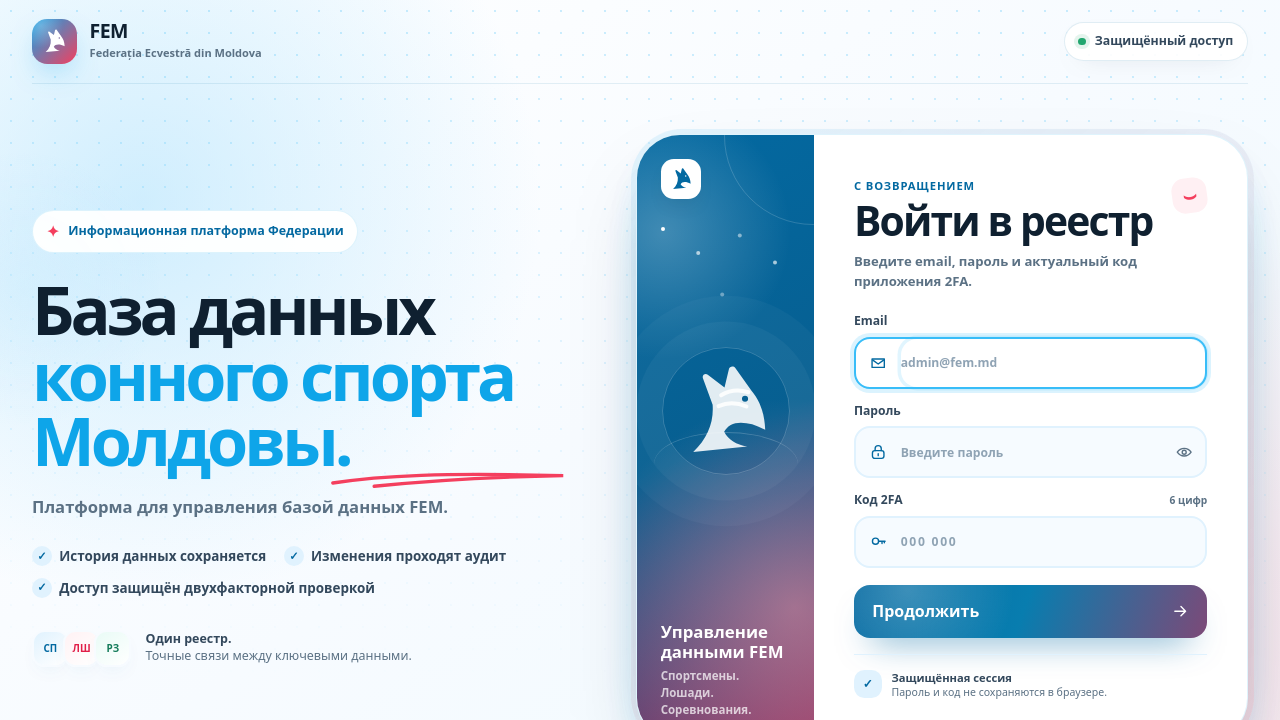
Test: LoginPage › submits the real authentication payload and renders a safe API error
In the field labelled "Email": (1053, 363) [901,339,1205,387], type "demo.admin@fem.local"
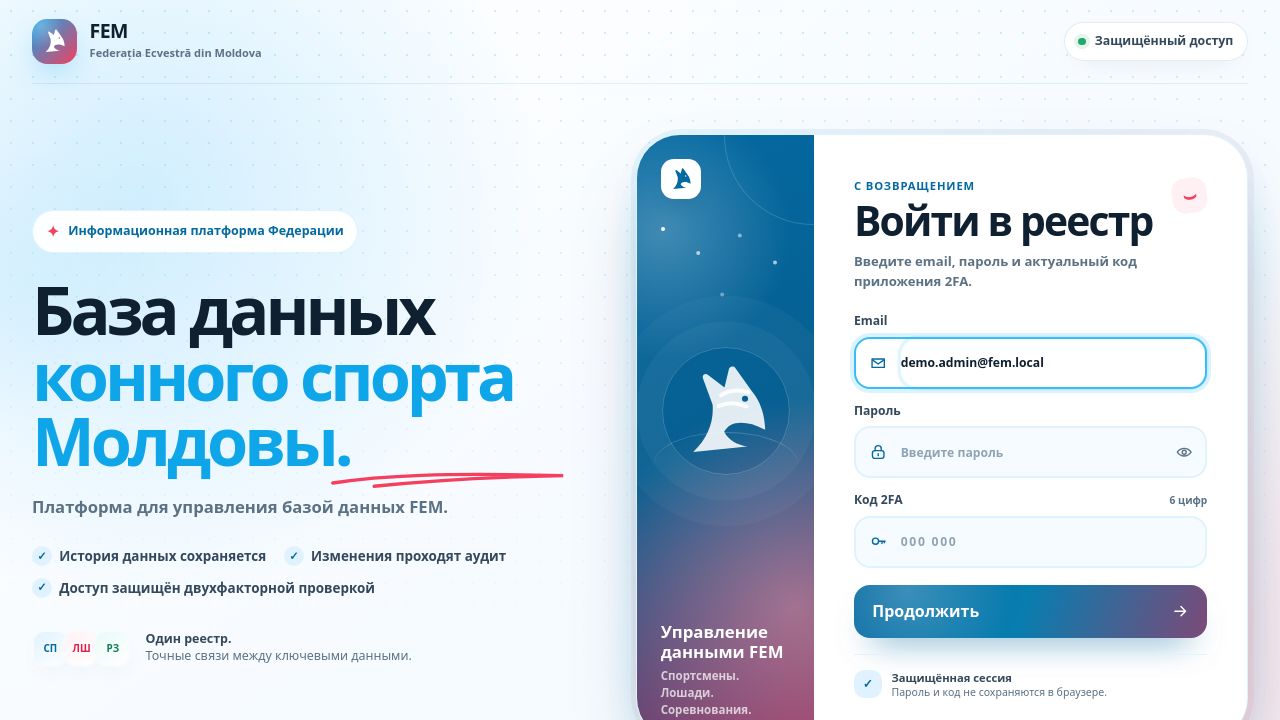
In the password field labelled "Пароль": (1031, 452) [901,428,1162,476], type "demo-password"
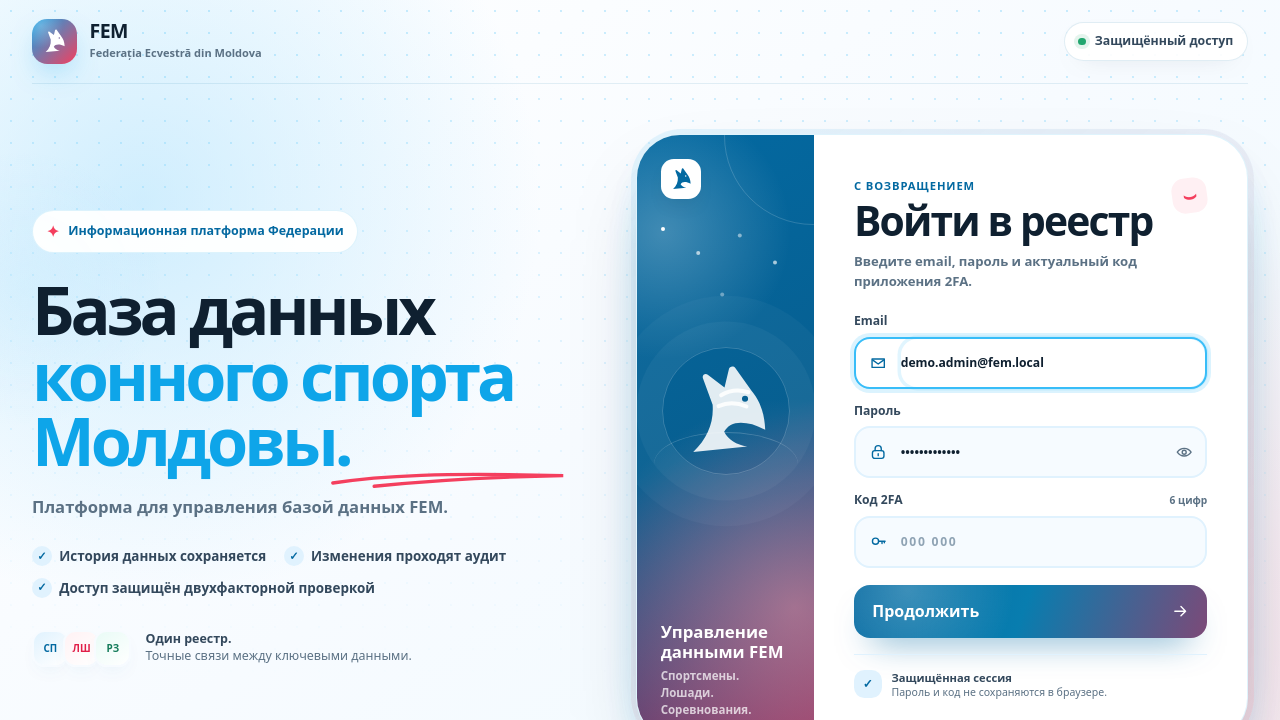
In the field labelled "Код 2FA 6 цифр": (1053, 542) [901,518,1205,566], type "123456"
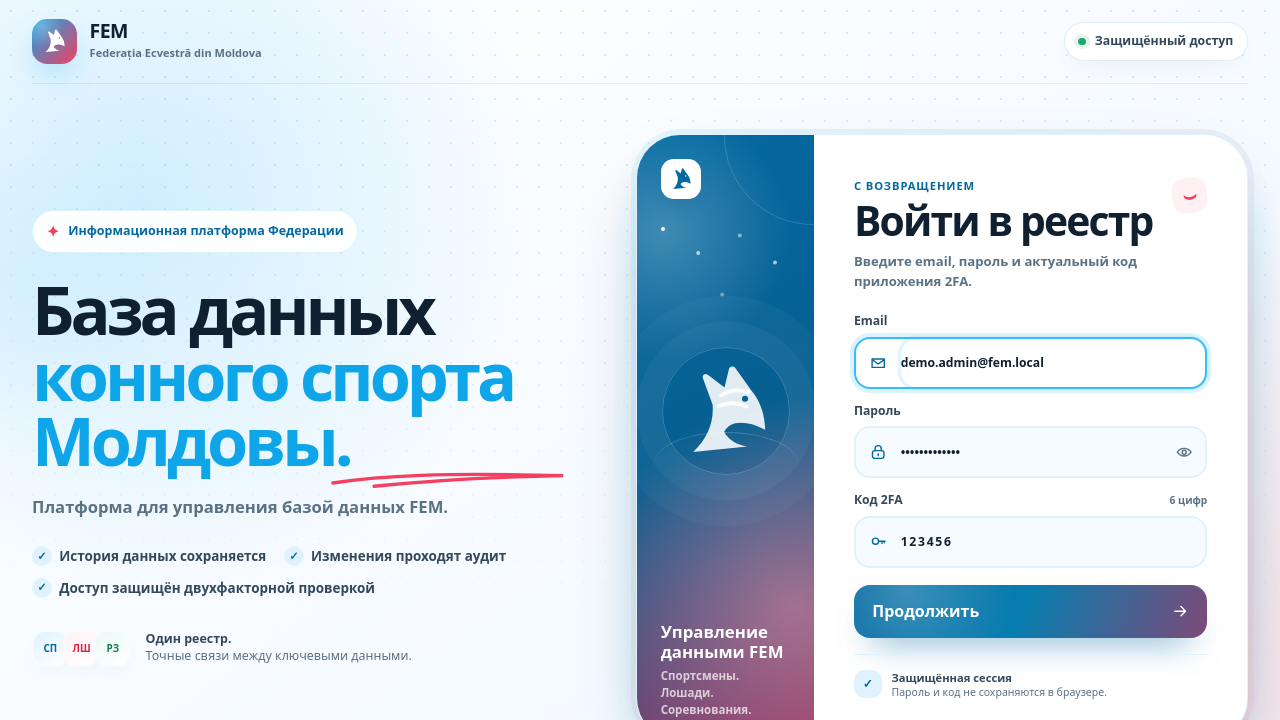
Submit the form "Продолжить", box [854,312,1207,638]
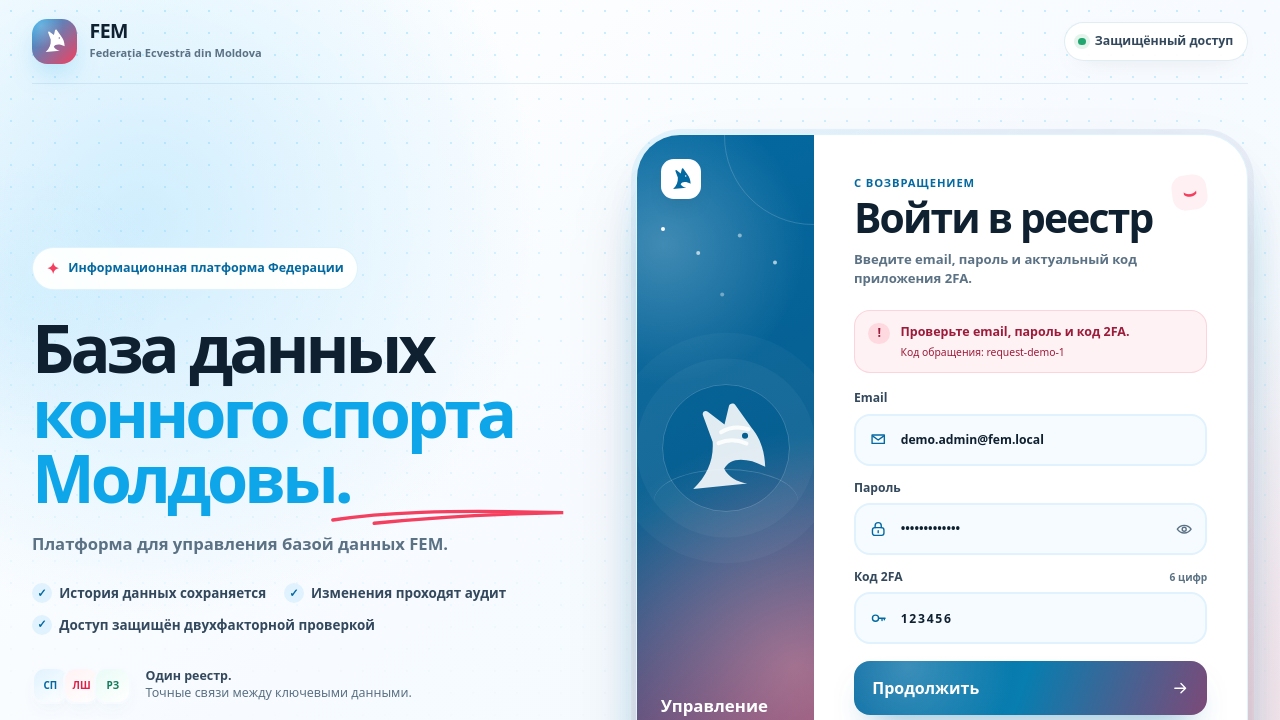
Expected: the message shows "Проверьте email, пароль и код 2FA.", [900,323,1130,340]
Expected: the message shows "request-demo-1", [986,345,1065,359]
